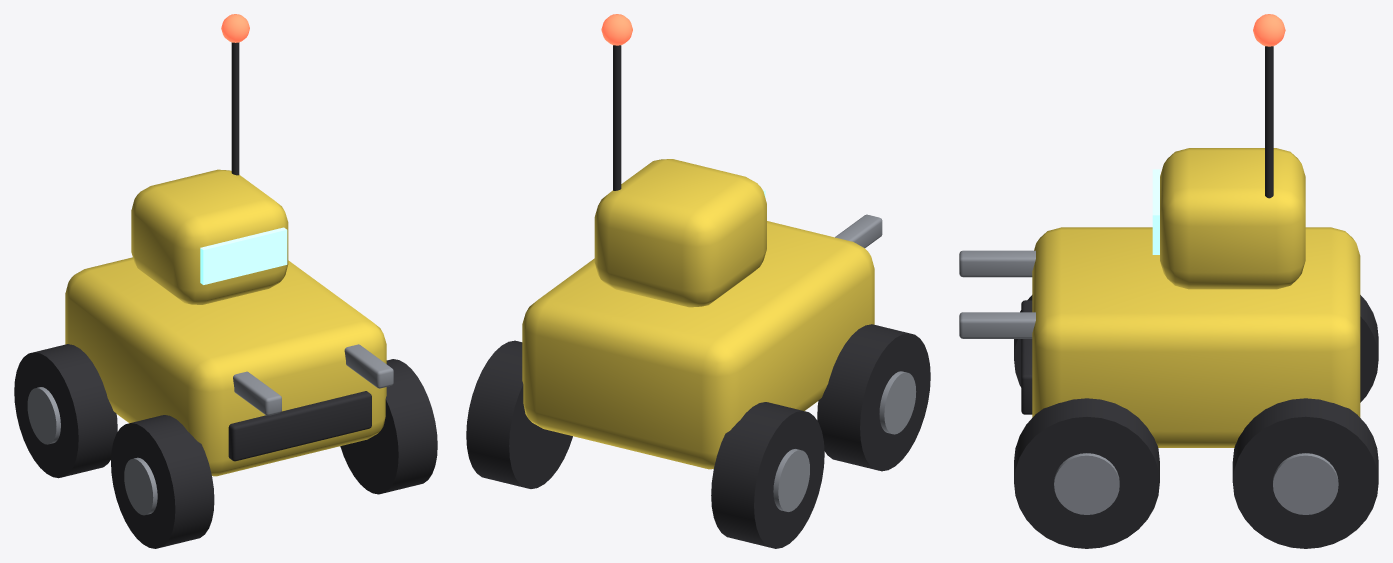
File: robot.glb
3 renders of one model, left to right at view 1: azimuth 30°, elevation 25°; view 2: azimuth 150°, elevation 25°; view 3: azimuth 270°, elevation 25°, orthographic. The views are drawn at different scales.
Parts seen in each view (by area): view 1: robot; view 2: robot; view 3: robot.
Part boxes in pixels (x1,y1,x2,y2): robot: (14,14,437,548); robot: (466,14,930,548); robot: (959,14,1378,548).
Size of the model in its own units: 0.972 by 1.46 by 1.15.
